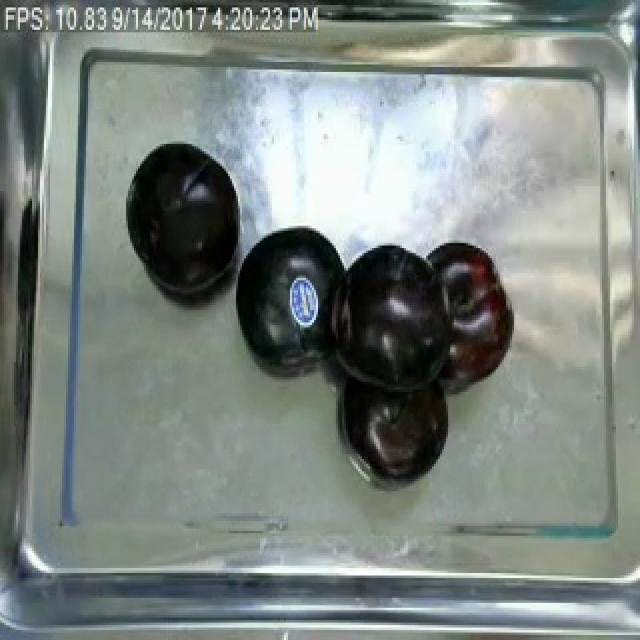Fruit: (120, 134, 248, 298), (336, 236, 454, 394), (226, 218, 350, 367), (432, 238, 518, 390), (346, 372, 452, 481)
